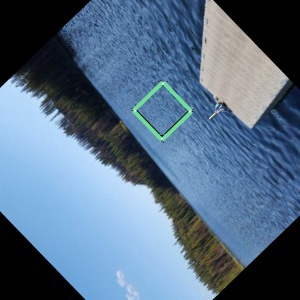square: (131, 78, 193, 144)
